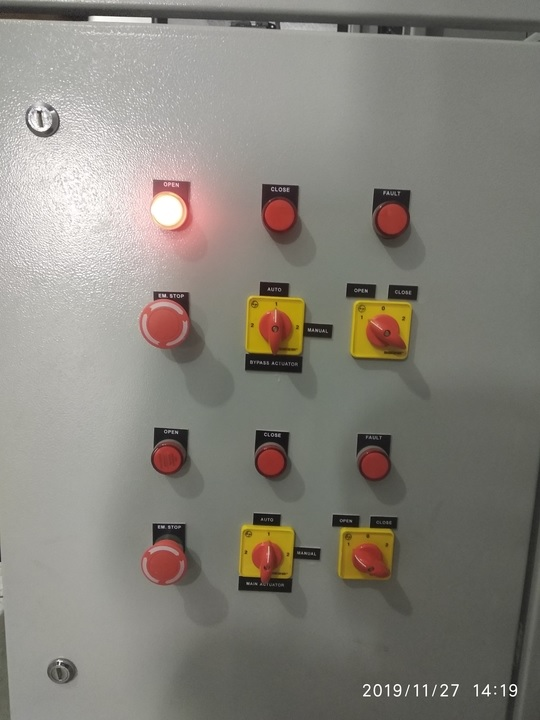Red_Led_Off: (244, 433, 306, 492), (252, 189, 311, 244), (348, 434, 403, 491), (368, 193, 420, 251), (143, 429, 196, 485)
Red_Led_On: (141, 186, 198, 236)
